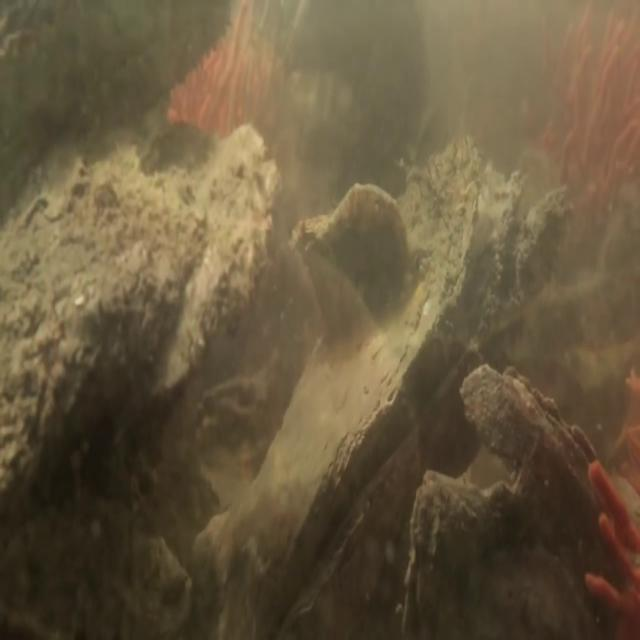Oyster-Closed: (3, 116, 288, 534), (396, 356, 611, 634)
Oyster-Open: (184, 107, 581, 639)
